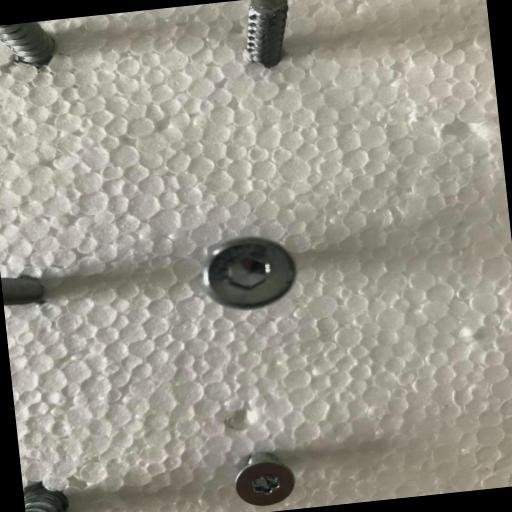Hex-Allen: (200, 234, 298, 312)
